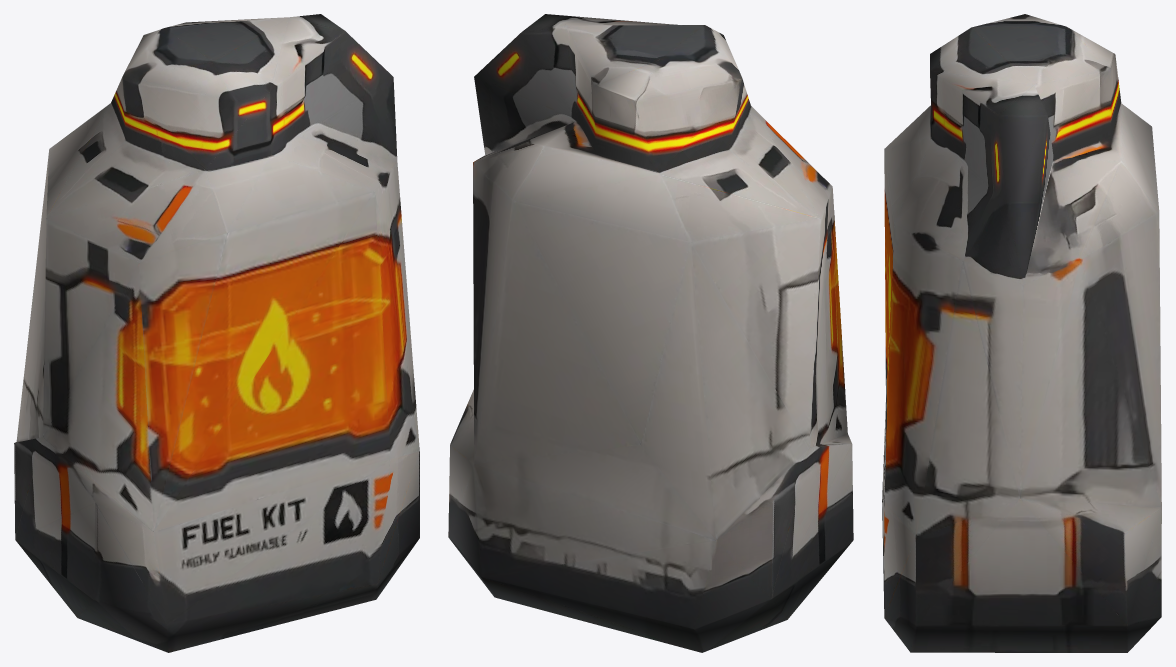
File: kit-fuel.glb
The picture shows the model from 3 angles, left to right: view 1: azimuth 30°, elevation 25°; view 2: azimuth 150°, elevation 25°; view 3: azimuth 270°, elevation 25°; orthographic projection.
Visible parts, largest first — view 1: geometry_0; view 2: geometry_0; view 3: geometry_0.
Boxes of the visible parts, <box> form: geometry_0: <box>14,14,419,652</box>; geometry_0: <box>448,14,853,652</box>; geometry_0: <box>882,14,1161,652</box>.
Bounding box in the file's own units: 0.6152 × 0.9517 × 0.4316.
Materials: 1 (1 with a texture image).
